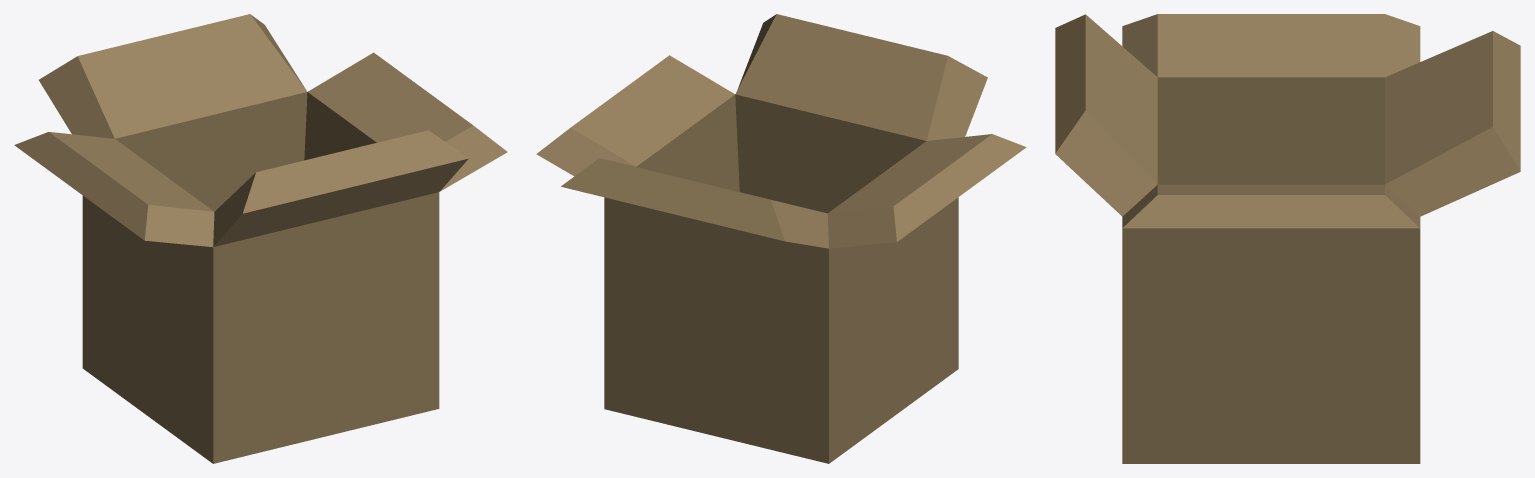
File: SM_Prop_CardboardBox_01.fbx
3 views of the same model, side by side, from view 1: azimuth 30°, elevation 25°; view 2: azimuth 150°, elevation 25°; view 3: azimuth 270°, elevation 25° (orthographic). The views are drawn at different scales.
Visible parts, largest first — view 1: SM_Prop_CardboardBox_01; view 2: SM_Prop_CardboardBox_01; view 3: SM_Prop_CardboardBox_01.
Boxes of the visible parts, x1,y1,x2,y2 form: SM_Prop_CardboardBox_01: (14,14,507,463); SM_Prop_CardboardBox_01: (536,14,1026,463); SM_Prop_CardboardBox_01: (1055,14,1520,463).
Bounding box in the file's own units: 34.78 × 27.17 × 33.85.
